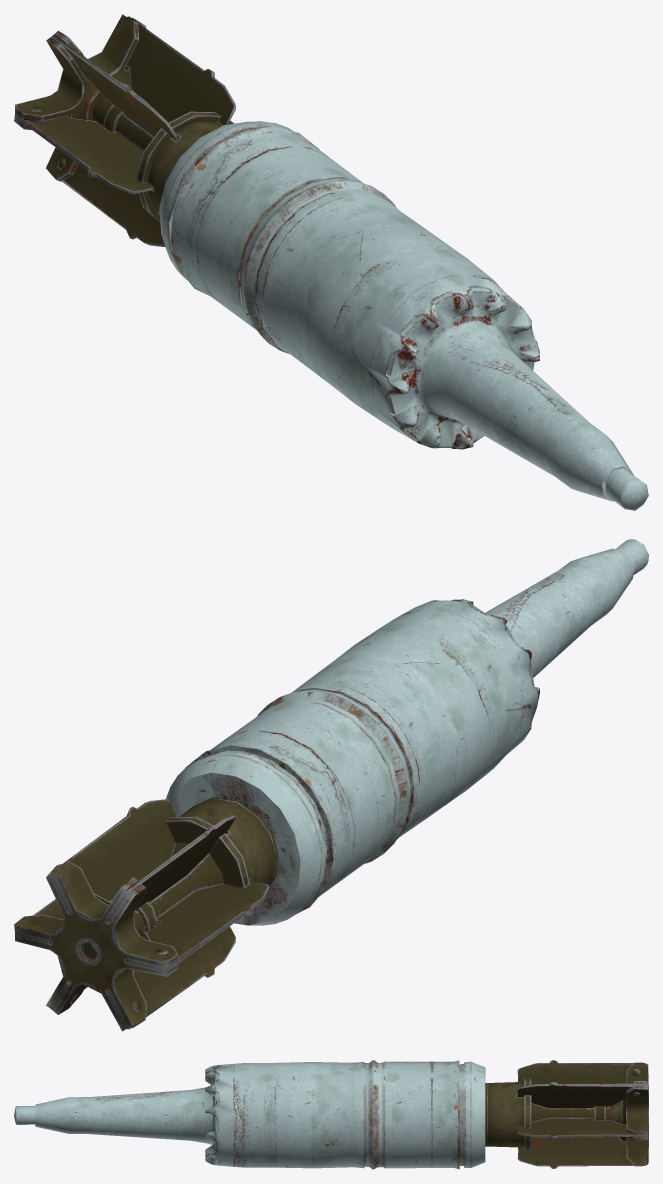
3 renders of one model, top to bottom at view 1: azimuth 30°, elevation 25°; view 2: azimuth 150°, elevation 25°; view 3: azimuth 270°, elevation 25°, orthographic. The views are drawn at different scales.
Parts seen in each view (by area): view 1: O_ip_r125__Body; view 2: O_ip_r125__Body; view 3: O_ip_r125__Body.
Boxes of the visible parts, left/top/right/bottom form: O_ip_r125__Body: left=14, top=14, right=648, bottom=510; O_ip_r125__Body: left=14, top=539, right=648, bottom=1031; O_ip_r125__Body: left=14, top=1060, right=648, bottom=1169.
Bounding box in the file's own units: 0.3583 × 0.3586 × 2.09.
Materials: 1 (1 with a texture image).
